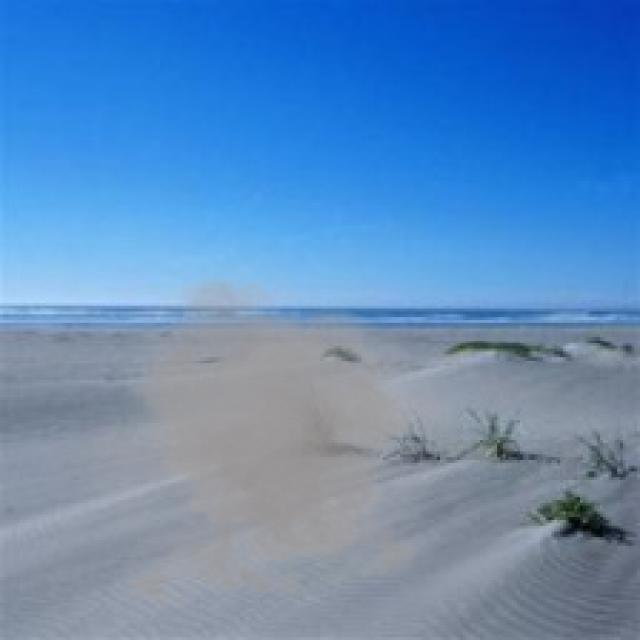Smoke: (69, 272, 478, 617)
